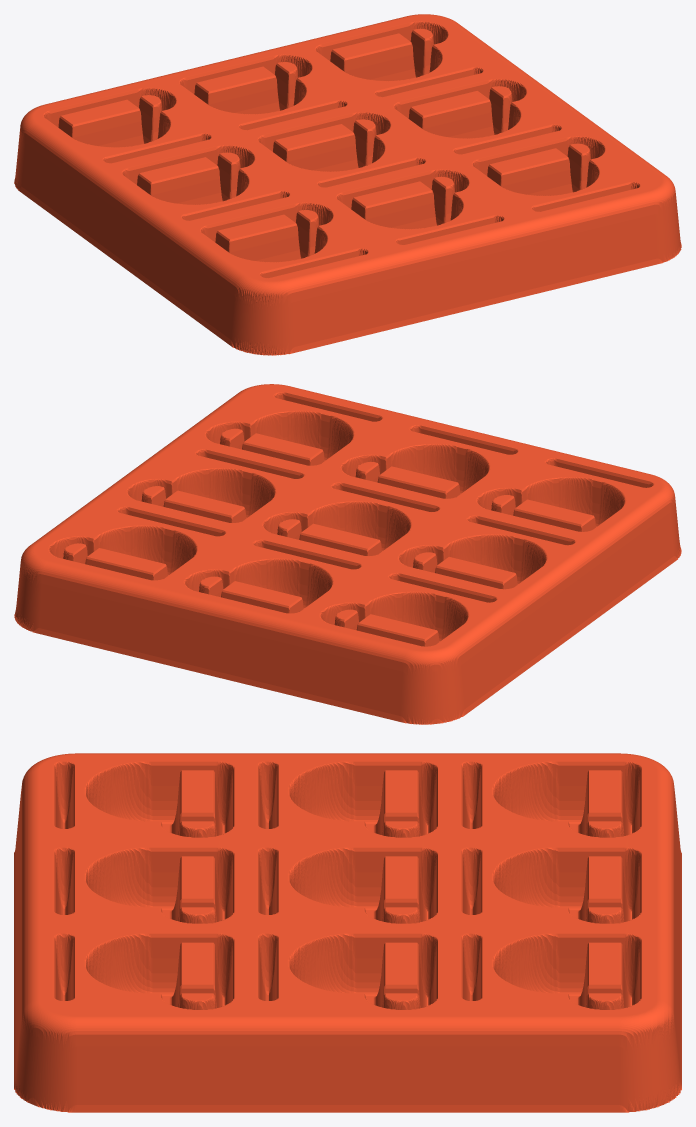
File: mold.glb
3 renders of one model, top to bottom at view 1: azimuth 30°, elevation 25°; view 2: azimuth 150°, elevation 25°; view 3: azimuth 270°, elevation 25°, orthographic. The views are drawn at different scales.
Visible parts, largest first — view 1: geometry_0; view 2: geometry_0; view 3: geometry_0.
Part boxes in pixels (left/top/right/bottom): geometry_0: left=14, top=14, right=681, bottom=355; geometry_0: left=14, top=384, right=681, bottom=724; geometry_0: left=14, top=753, right=681, bottom=1112.
Bounding box in the file's own units: 0.0964 × 0.0136 × 0.0964.
